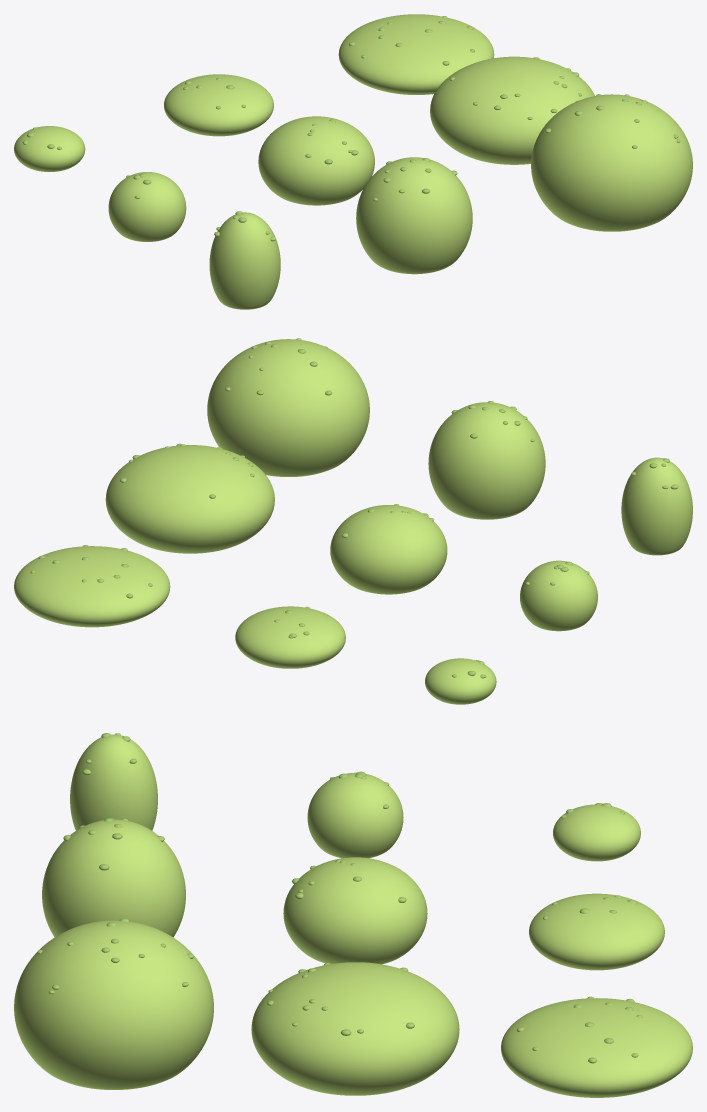
The model's file is landscape.glb.
The picture shows the model from 3 angles, top to bottom: view 1: azimuth 30°, elevation 25°; view 2: azimuth 150°, elevation 25°; view 3: azimuth 270°, elevation 25°; orthographic projection. The views are drawn at different scales.
Parts seen in each view (by area): view 1: Block_L_Tall, Block_L_Mid, Block_M_Tall, Block_L_Low, Block_M_Mid, Block_S_Tall, Block_M_Low, Block_S_Mid, Block_S_Low; view 2: Block_L_Tall, Block_L_Mid, Block_M_Tall, Block_L_Low, Block_M_Mid, Block_S_Tall, Block_M_Low, Block_S_Mid, Block_S_Low; view 3: Block_L_Tall, Block_L_Mid, Block_L_Low, Block_M_Tall, Block_M_Mid, Block_M_Low, Block_S_Mid, Block_S_Tall, Block_S_Low.
Part boxes in pixels (x1,y1,x2,y2): Block_L_Tall: [531, 94, 692, 231]; Block_L_Mid: [430, 56, 594, 164]; Block_M_Tall: [356, 157, 472, 274]; Block_L_Low: [338, 14, 494, 94]; Block_M_Mid: [258, 116, 374, 205]; Block_S_Tall: [209, 211, 280, 309]; Block_M_Low: [164, 74, 273, 136]; Block_S_Mid: [108, 172, 186, 241]; Block_S_Low: [14, 126, 85, 171]; Block_L_Tall: [207, 338, 369, 476]; Block_L_Mid: [105, 443, 274, 553]; Block_M_Tall: [428, 401, 545, 519]; Block_L_Low: [14, 545, 170, 627]; Block_M_Mid: [330, 504, 447, 594]; Block_S_Tall: [621, 457, 692, 555]; Block_M_Low: [235, 606, 345, 668]; Block_S_Mid: [520, 560, 597, 631]; Block_S_Low: [425, 658, 496, 704]; Block_L_Tall: [14, 918, 213, 1089]; Block_L_Mid: [251, 962, 459, 1095]; Block_L_Low: [501, 996, 692, 1097]; Block_M_Tall: [42, 818, 185, 937]; Block_M_Mid: [283, 857, 427, 964]; Block_M_Low: [529, 893, 664, 970]; Block_S_Mid: [307, 771, 403, 858]; Block_S_Tall: [70, 733, 157, 830]; Block_S_Low: [553, 803, 640, 861].
Bounding box in the file's own units: 8.39 × 1.91 × 8.44.
